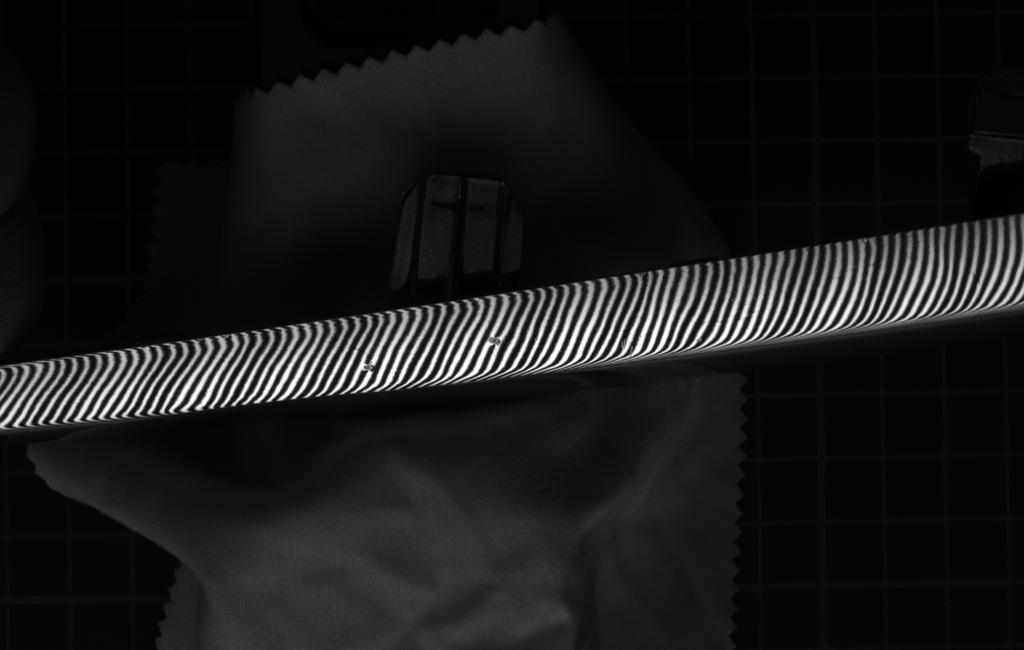Pierced: (354, 358, 381, 377), (479, 333, 508, 348)
